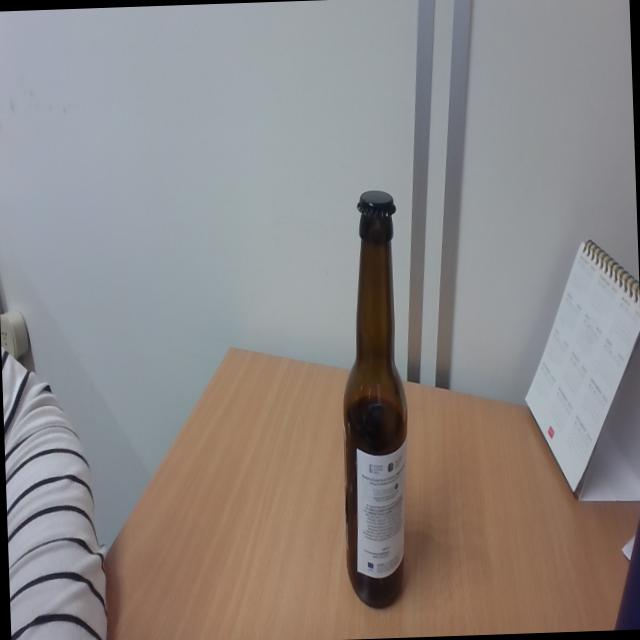Bottle: (331, 187, 413, 612)
Cap: (353, 184, 398, 221)
Label: (353, 442, 411, 576)
